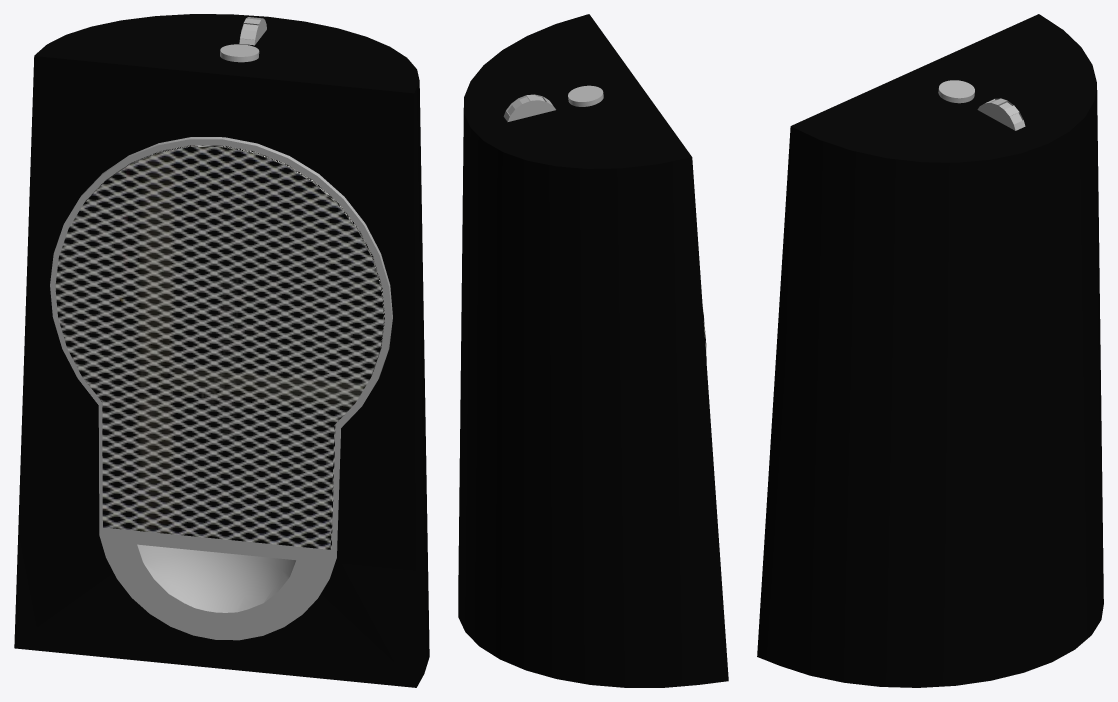
The model's file is NSCassaDX.gltf.
The picture shows the model from 3 angles, left to right: view 1: azimuth 30°, elevation 25°; view 2: azimuth 150°, elevation 25°; view 3: azimuth 270°, elevation 25°; orthographic projection. The views are drawn at different scales.
Visible parts, largest first — view 1: Bianco Altoparlante DX; view 2: Bianco Altoparlante DX; view 3: Bianco Altoparlante DX.
Boxes of the visible parts, left/top/right/bottom form: Bianco Altoparlante DX: left=14, top=14, right=429, bottom=687; Bianco Altoparlante DX: left=458, top=14, right=728, bottom=687; Bianco Altoparlante DX: left=757, top=14, right=1103, bottom=687.
Bounding box in the file's own units: 0.0975 × 0.164 × 0.0955.
Materials: 3 (1 with a texture image).
